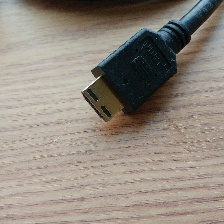hdmi_male: (39, 73, 122, 175), (84, 71, 159, 160)
